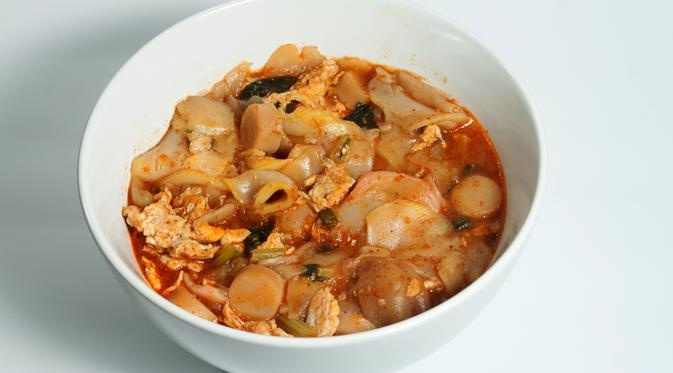seblak: (124, 43, 508, 337)
